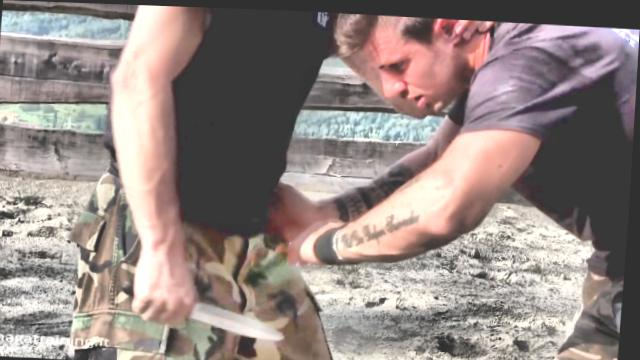knife: (116, 271, 298, 347)
